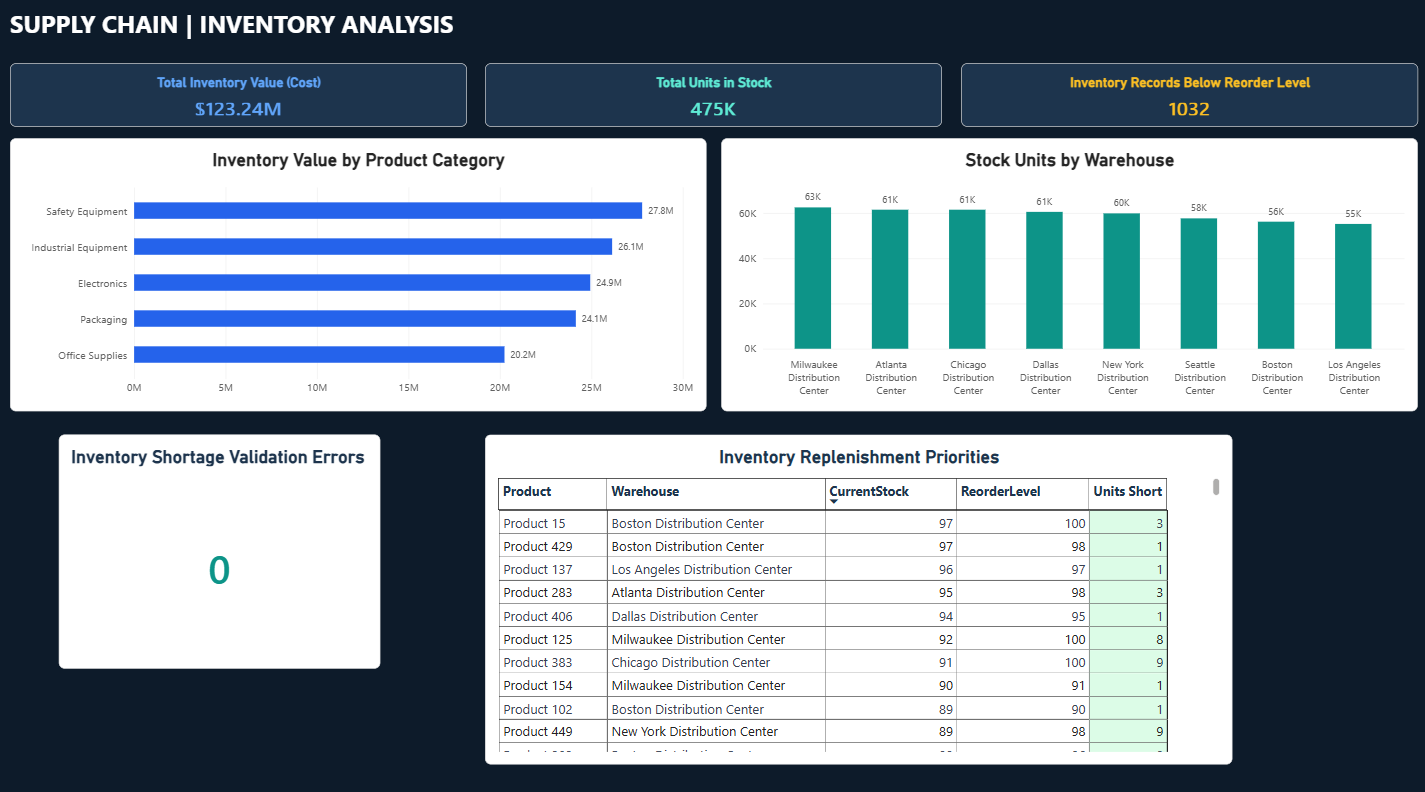

This screenshot's page, from the dashboard's own definition file:
{"tool":"powerbi","page":{"name":"Inventory Analysis","canvas":[1920,1080],"ordinal":1},"visuals":[{"type":"card","title":"Total Inventory Value (Cost)","fields":{"Values":["Inventory Performance.to Total Inventory Cost Value"]},"box":[20,95,610,85],"z":0},{"type":"card","title":"Total Units in Stock","fields":{"Values":["Inventory Performance.Total Units in Stock"]},"box":[655,95,610,85],"z":1000},{"type":"card","title":"Inventory Records Below Reorder Level","fields":{"Values":["Inventory Performance.Inventory Records Below Reorder Level"]},"box":[1290,95,610,85],"z":2000},{"type":"clusteredBarChart","title":"Inventory Value by Product Category","fields":{"Category":["Inventory Performance.Category"],"Y":["Sum(Inventory Performance.InventoryCostValue)"]},"box":[20,195,930,365],"z":3000},{"type":"clusteredColumnChart","title":"Stock Units by Warehouse","fields":{"Category":["Inventory Performance.WarehouseName"],"Y":["Sum(Inventory Performance.CurrentStock)"]},"box":[970,195,930,365],"z":4000},{"type":"tableEx","title":"Inventory Replenishment Priorities","fields":{"Values":["Inventory Performance.ProductName","Inventory Performance.WarehouseName","Sum(Inventory Performance.CurrentStock)","Sum(Inventory Performance.ReorderLevel)","Sum(Inventory Performance.UnitsBelowReorderLevel)"]},"box":[654.5,591.1,998.5,440.8],"z":5000},{"type":"card","title":"Inventory Shortage Validation Errors","fields":{"Values":["Inventory Performance.Inventory Shortage Validation Errors"]},"box":[85.2,591.1,429.7,312.8],"z":6000},{"type":"textbox","box":[20,20,900,69.3],"z":7000}]}

Visuals, with their boxes in screenshot pixels (x1, y1, x2, y2), scaled from the page's 1920x1080 canvas onto the 1425x792 screenshot:
"Total Inventory Value (Cost)" card: locate(15, 70, 468, 132)
"Total Units in Stock" card: locate(486, 70, 939, 132)
"Inventory Records Below Reorder Level" card: locate(957, 70, 1410, 132)
"Inventory Value by Product Category" clusteredBarChart: locate(15, 143, 705, 411)
"Stock Units by Warehouse" clusteredColumnChart: locate(720, 143, 1410, 411)
"Inventory Replenishment Priorities" tableEx: locate(486, 433, 1227, 757)
"Inventory Shortage Validation Errors" card: locate(63, 433, 382, 663)
textbox: locate(15, 15, 683, 65)
